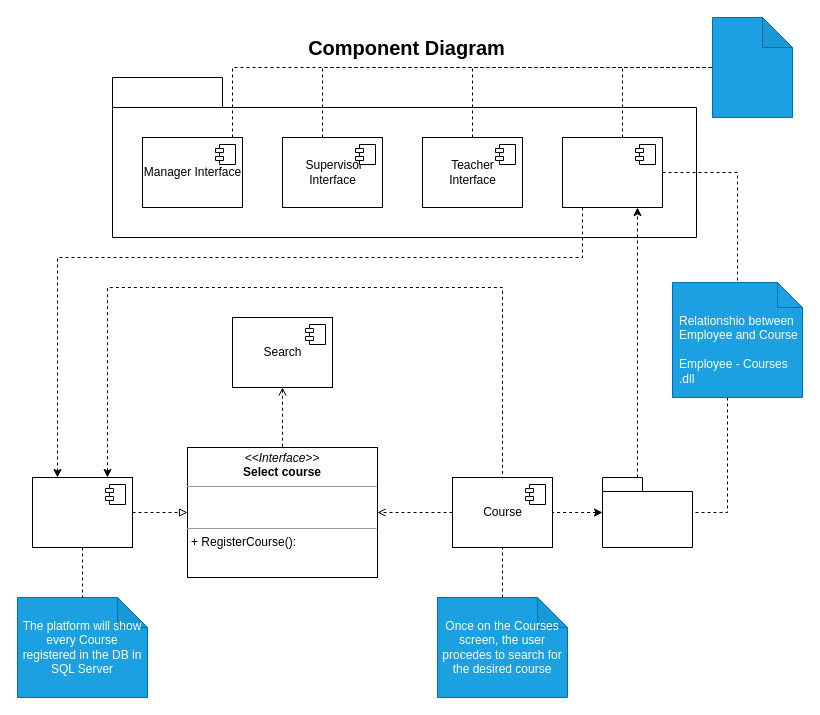
Image size: 820x715. Some labels were removed from this diagram. Here are the shapes that lost their labels. From the top down, the box of each, then its label:
(712, 16, 792, 118): User interfaces designed in Visual forms
(112, 76, 696, 238): Interfaces
(562, 136, 662, 208): Employee Interface
(32, 476, 132, 548): DB KMS
(602, 476, 692, 548): Inscription
